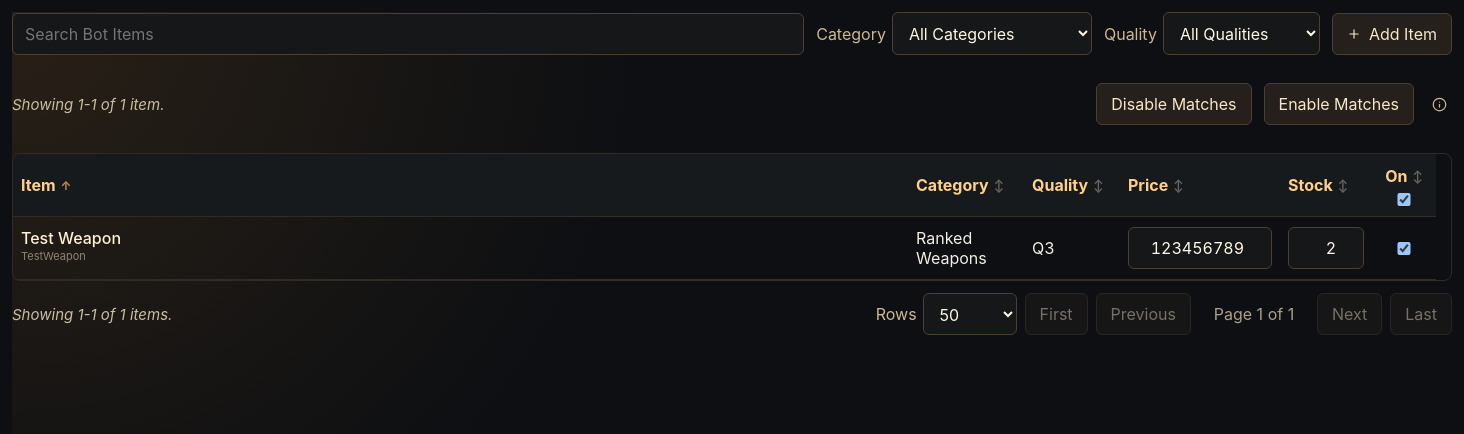
Test: BotItemsTab › uses the On header checkbox for the current page and reveals sticky save actions
Expected: the checkbox named "Test Weapon On" is checked, [1380,242,1428,254]
Click the checkbox named "Enable All Items on This Page" at (1404, 200), box [1385,193,1423,206]
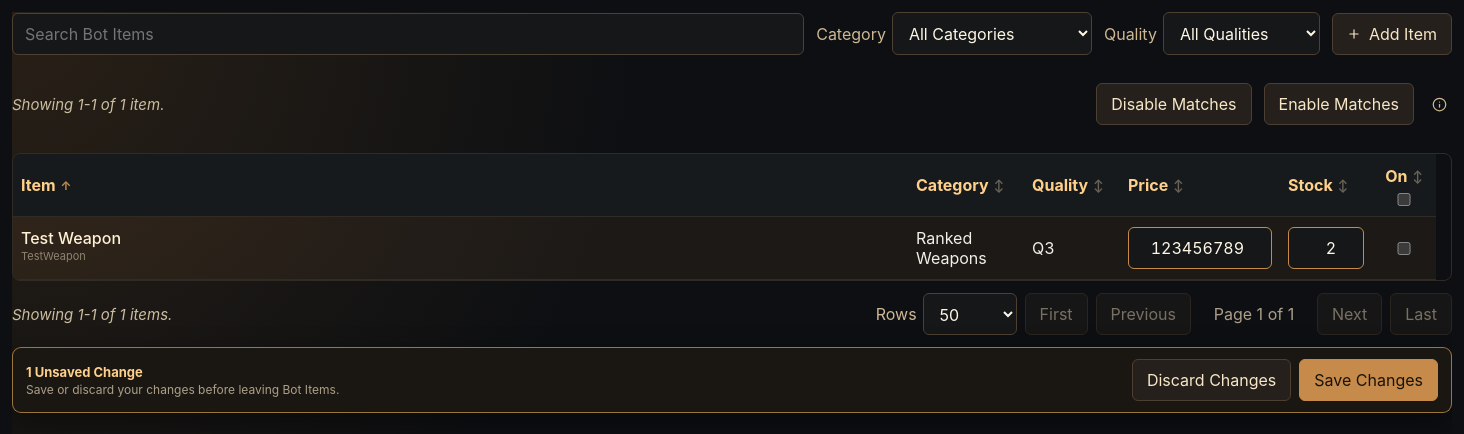
Expected: the checkbox named "Test Weapon On" is not checked, [1380,242,1428,254]
Expected: the text "1 Unsaved Change" is shown, [26,364,143,380]
Expected: the button "Discard Changes" is shown
Click the button "Discard Changes" at (1212, 380), box [1132,359,1291,401]
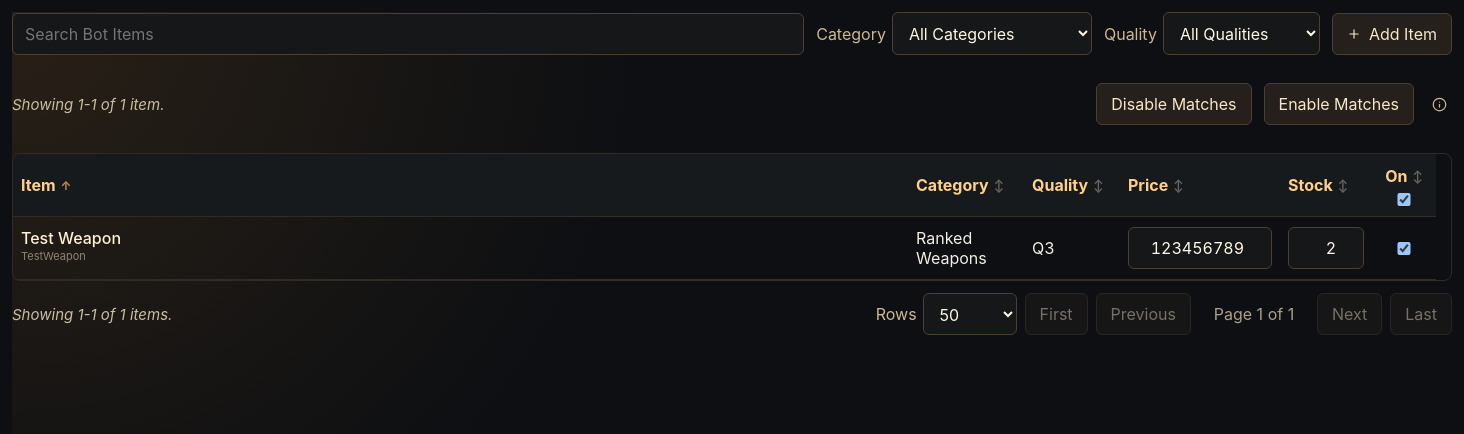
Expected: the checkbox named "Test Weapon On" is checked, [1380,242,1428,254]
Expected: the button "Save Changes" is gone
